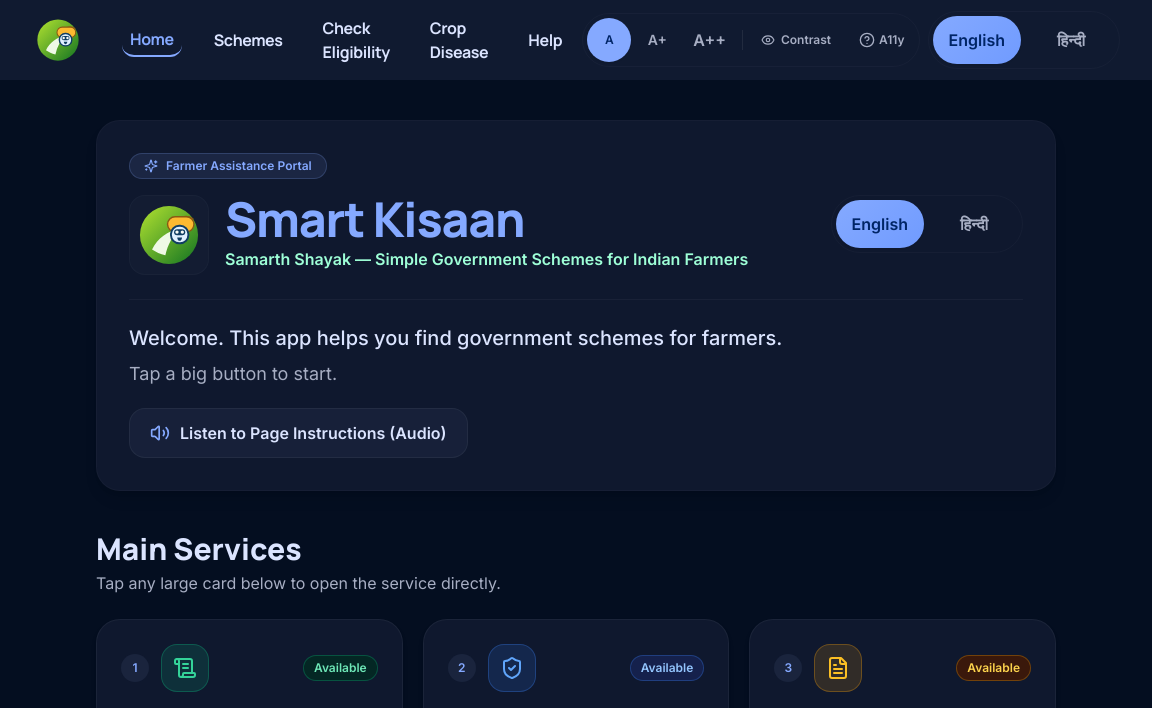
Test: Phase 1 — Feature 6: Basic Accessibility Controls › Bilingual Accessibility Translations (English & Hindi) › renders accessibility labels and dialog in Hindi when language is switched
The width and height of the screenshot is (1152, 708).
// Switch language to Hindi
What coordinates should you click on to do the following:
click the button "हिन्दी" in the row of "Home"
I would click on:
 (1071, 40)
Its box is [1027,16,1115,64].
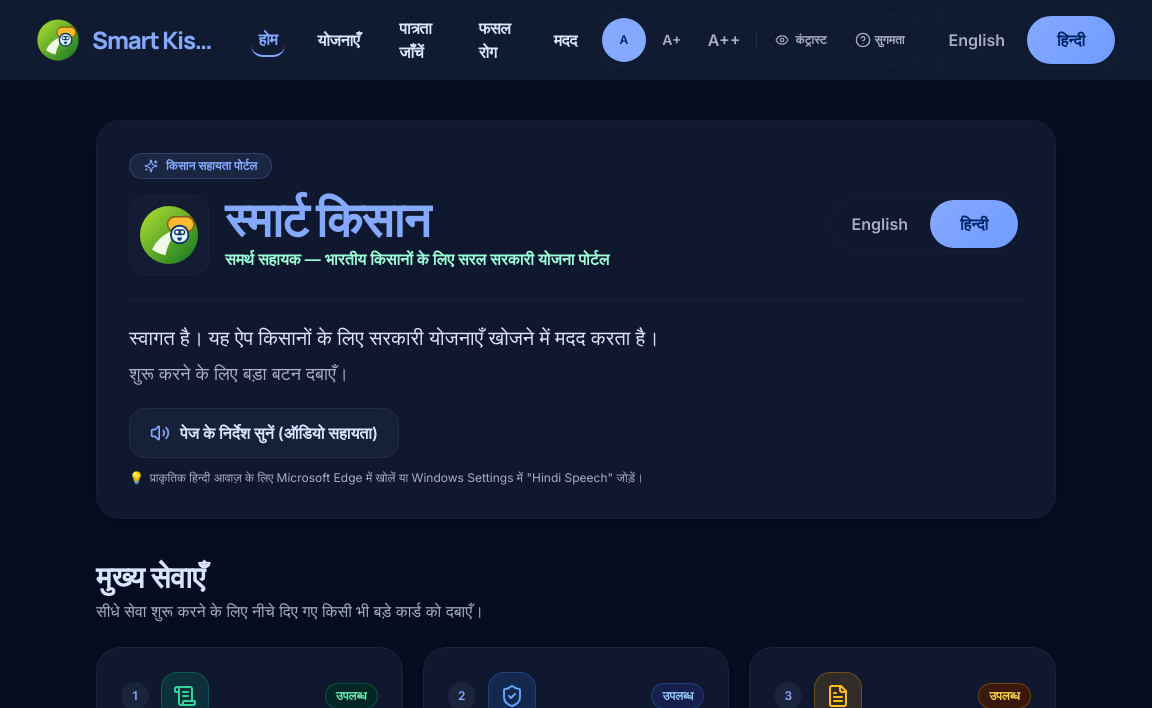
Result: the button with aria-label "सुगमता सहायता एवं सेटिंग्स" is shown
// Open modal in Hindi
What coordinates should you click on to do the following:
click the button with aria-label "सुगमता सहायता एवं सेटिंग्स"
I would click on:
 (880, 40)
Its box is [845,18,915,62].
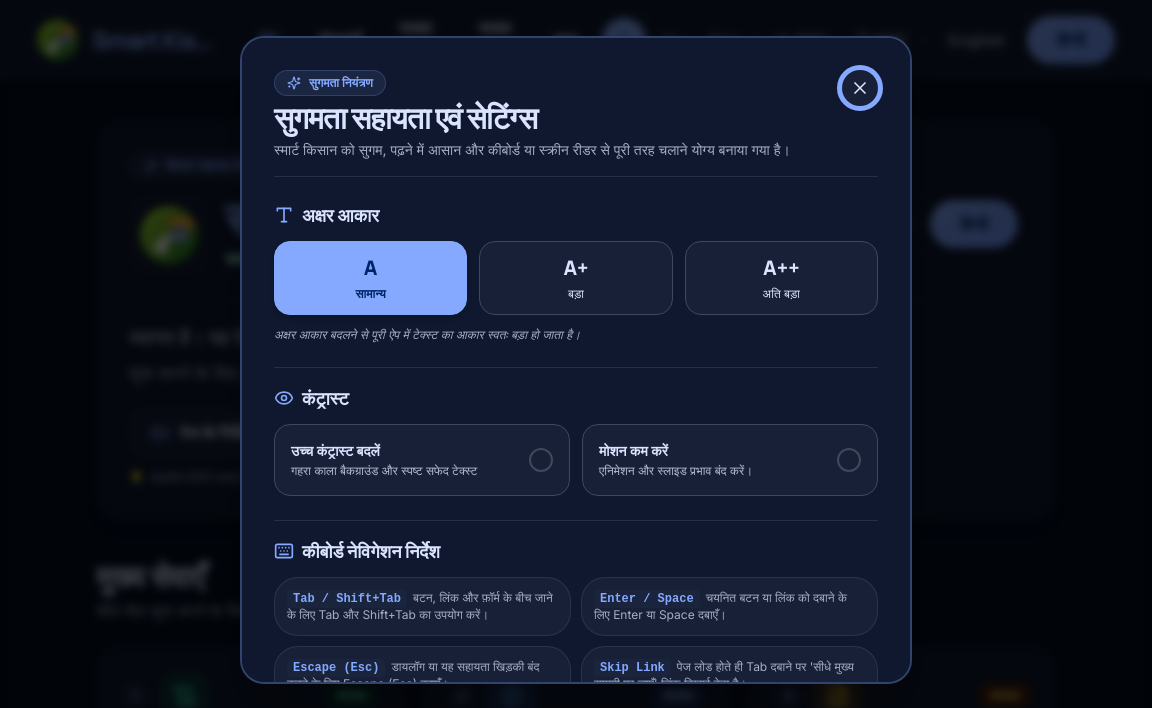
Result: the heading "सुगमता सहायता एवं सेटिंग्स" is shown at [274,97,537,138]
Result: the text "अक्षर आकार" is shown at [302,201,379,229]
Result: the text "उच्च कंट्रास्ट बदलें" is shown at [291,442,380,459]
